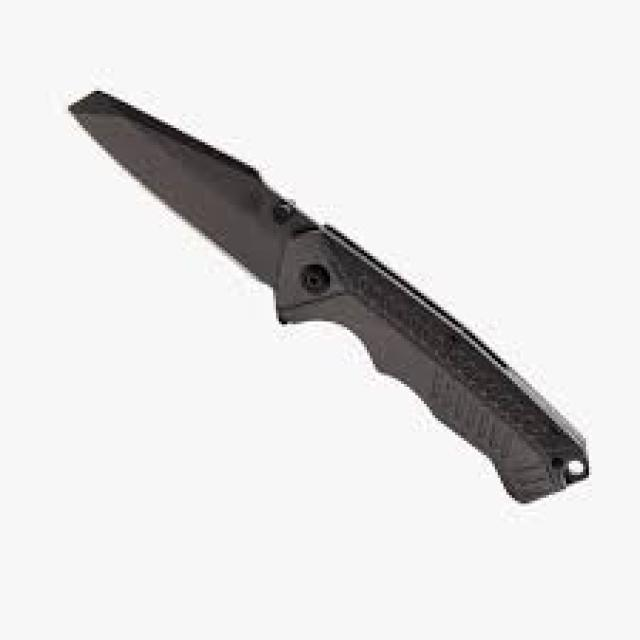knives: (62, 83, 594, 509)
